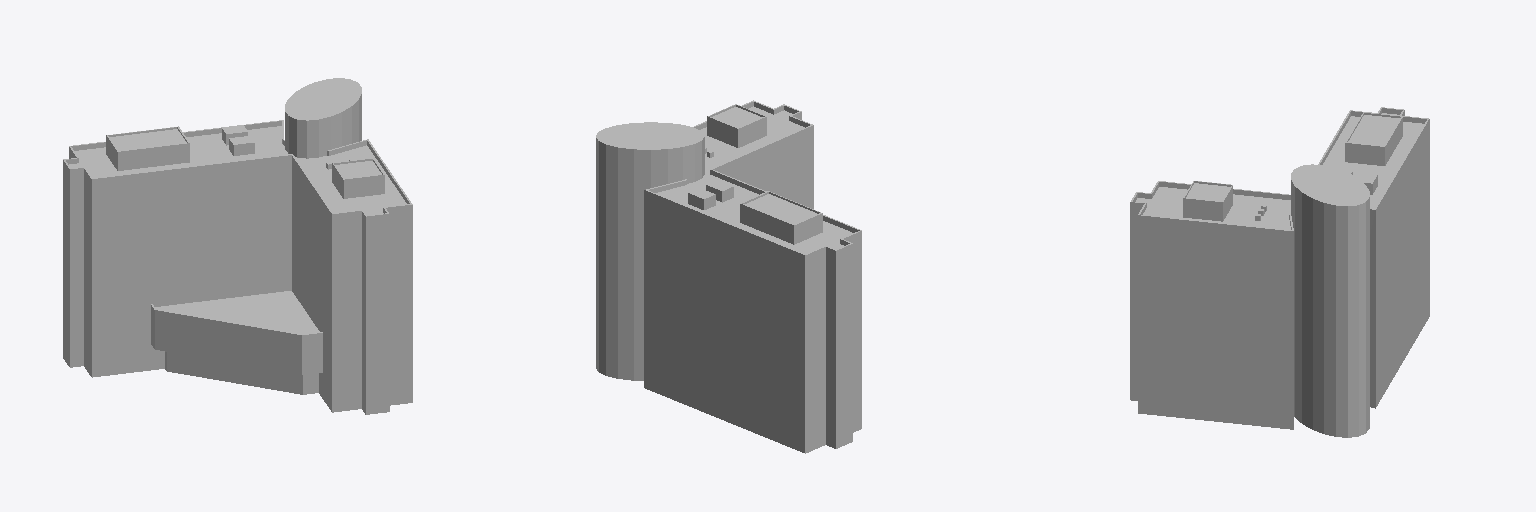
The picture shows the model from 3 angles: view 1: azimuth 30°, elevation 25°; view 2: azimuth 150°, elevation 25°; view 3: azimuth 270°, elevation 25°; orthographic projection.
Parts seen in each view (by area): view 1: JZ_JX_06; view 2: JZ_JX_06; view 3: JZ_JX_06.
Part boxes in pixels (left/top/right/bottom): JZ_JX_06: left=63, top=78, right=412, bottom=414; JZ_JX_06: left=596, top=100, right=861, bottom=453; JZ_JX_06: left=1130, top=107, right=1429, bottom=437.
Size of the model in its own units: 8592 by 7000 by 8201.